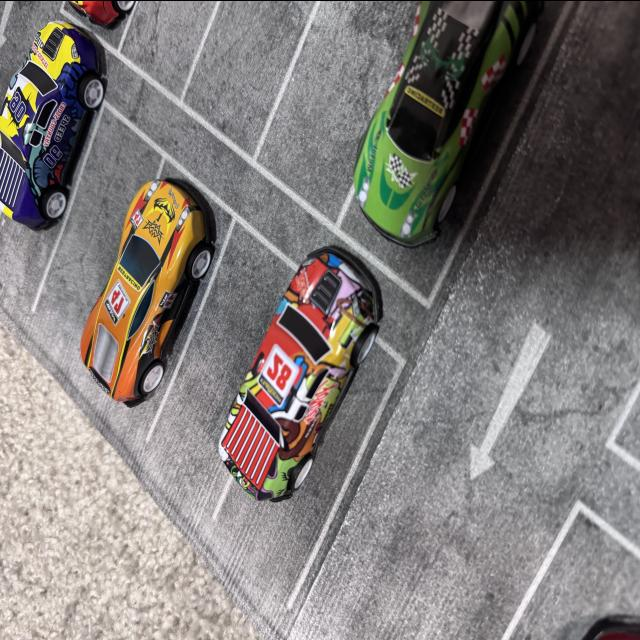Car: (349, 0, 587, 289), (79, 168, 263, 464), (211, 212, 381, 514), (0, 0, 122, 244)
